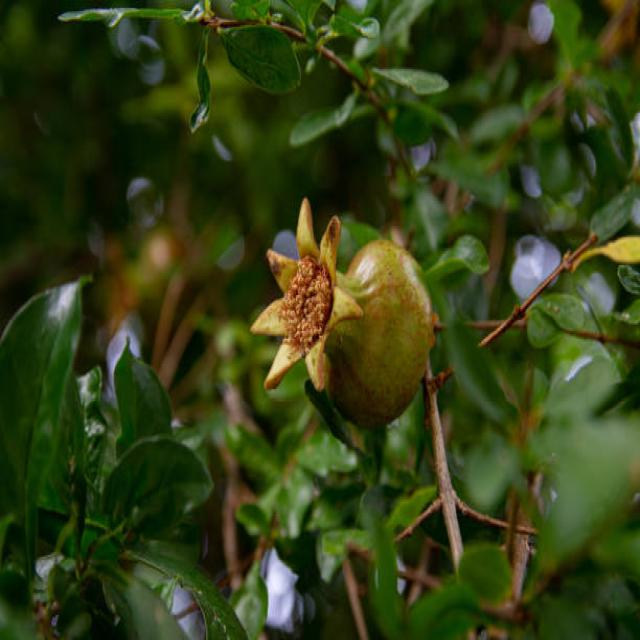Unripe: (252, 199, 434, 430)
